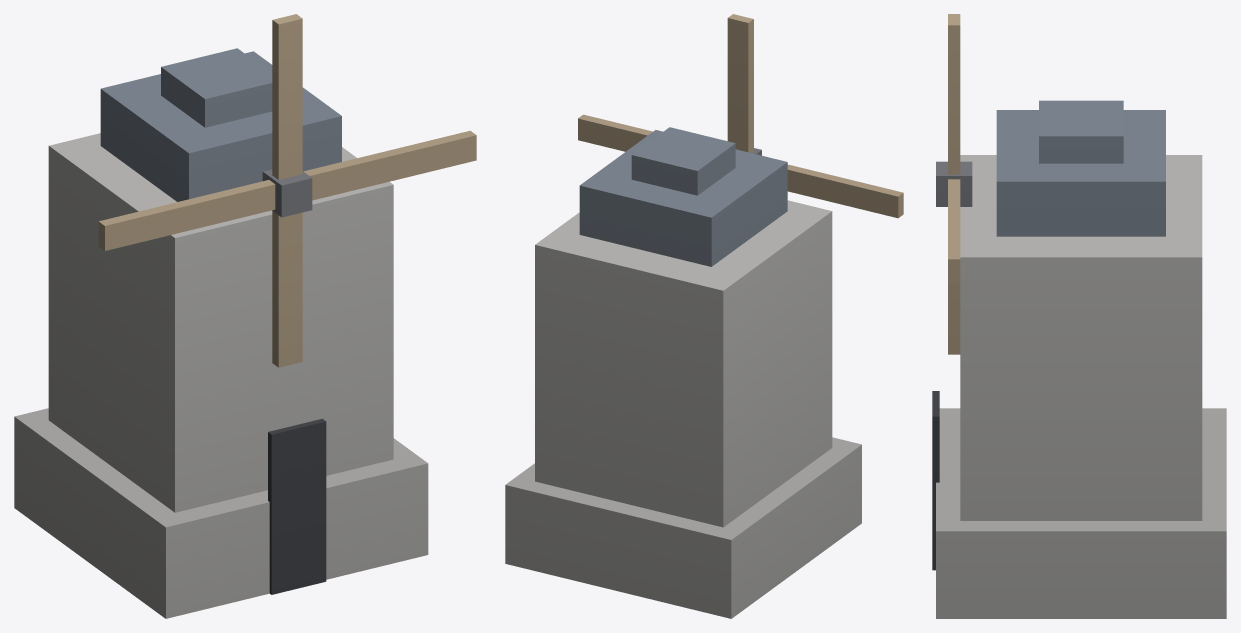
Rendered from windmill.glb.
3 renders of one model, left to right at view 1: azimuth 30°, elevation 25°; view 2: azimuth 150°, elevation 25°; view 3: azimuth 270°, elevation 25°, orthographic. The views are drawn at different scales.
Visible parts, largest first — view 1: root; view 2: root; view 3: root.
Boxes of the visible parts, box(x1,y1,x2,y2) form: root: box(14, 14, 476, 618); root: box(505, 14, 903, 618); root: box(932, 14, 1226, 618).
Size of the model in its own units: 3.4 by 4.9 by 2.43.
